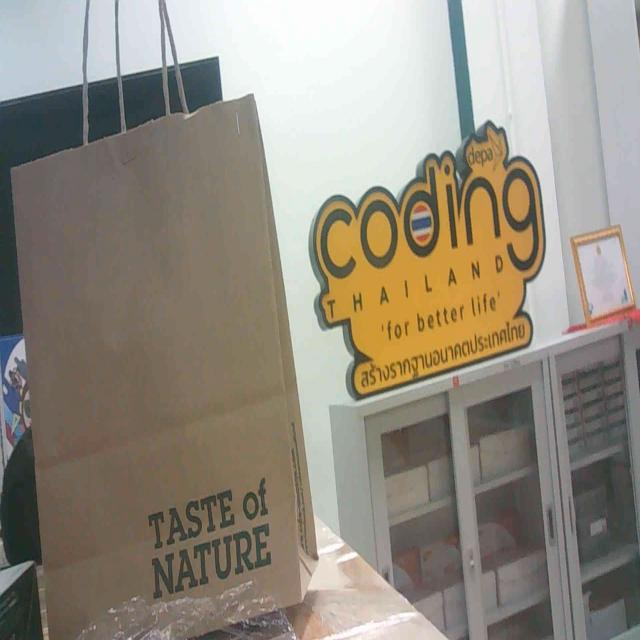bag: (0, 51, 316, 640)
